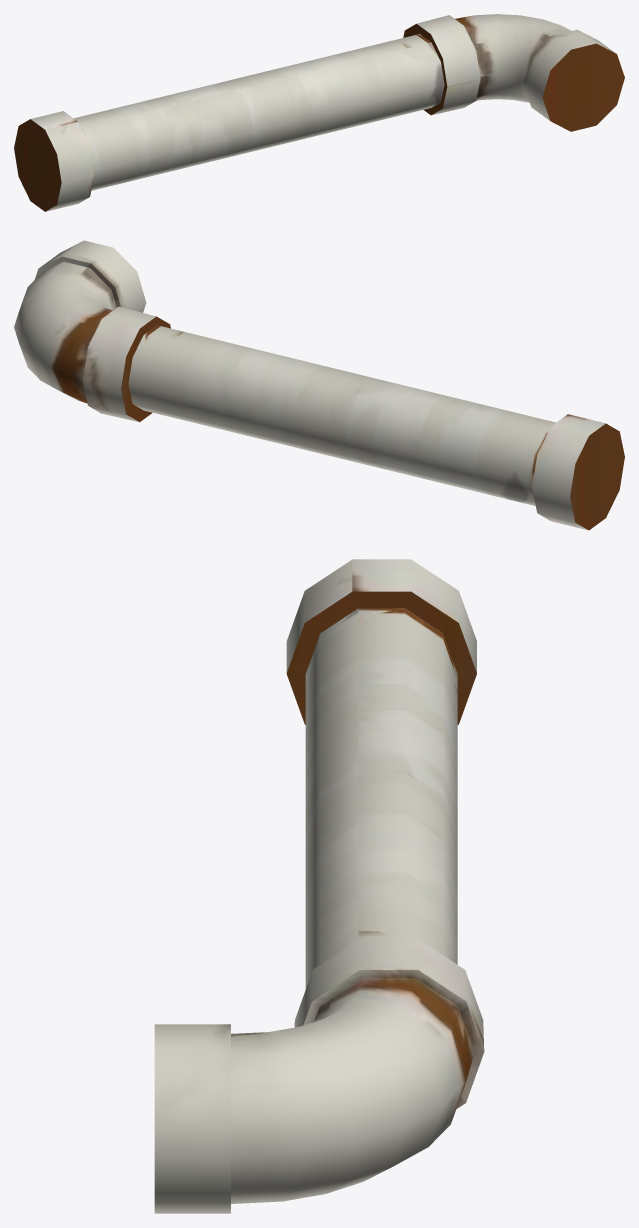
3 renders of one model, top to bottom at view 1: azimuth 30°, elevation 25°; view 2: azimuth 150°, elevation 25°; view 3: azimuth 270°, elevation 25°, orthographic. The views are drawn at different scales.
Parts seen in each view (by area): view 1: body0_model0_lod0_mesh0; view 2: body0_model0_lod0_mesh0; view 3: body0_model0_lod0_mesh0.
Boxes of the visible parts, left/top/right/bottom form: body0_model0_lod0_mesh0: left=14, top=14, right=624, bottom=211; body0_model0_lod0_mesh0: left=14, top=240, right=624, bottom=530; body0_model0_lod0_mesh0: left=154, top=559, right=484, bottom=1213.
Bounding box in the file's own units: 64.29 × 9.51 × 17.3.
1 material, 1 textured.
